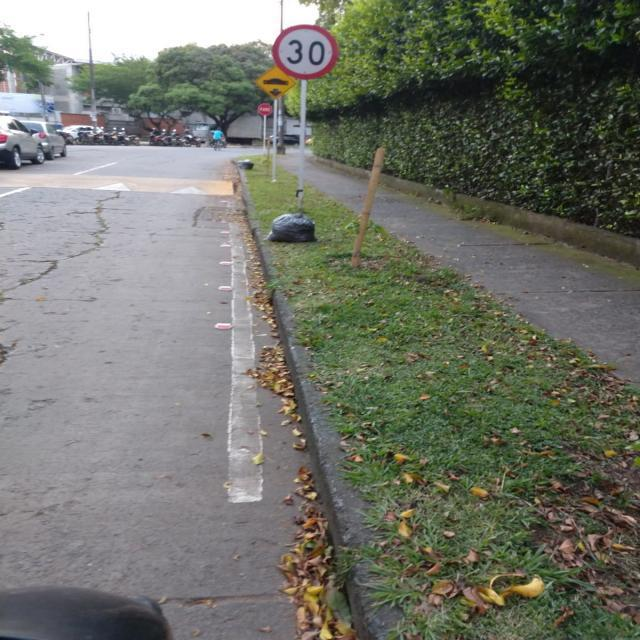Trashbag: (261, 212, 320, 246), (233, 156, 256, 172)
